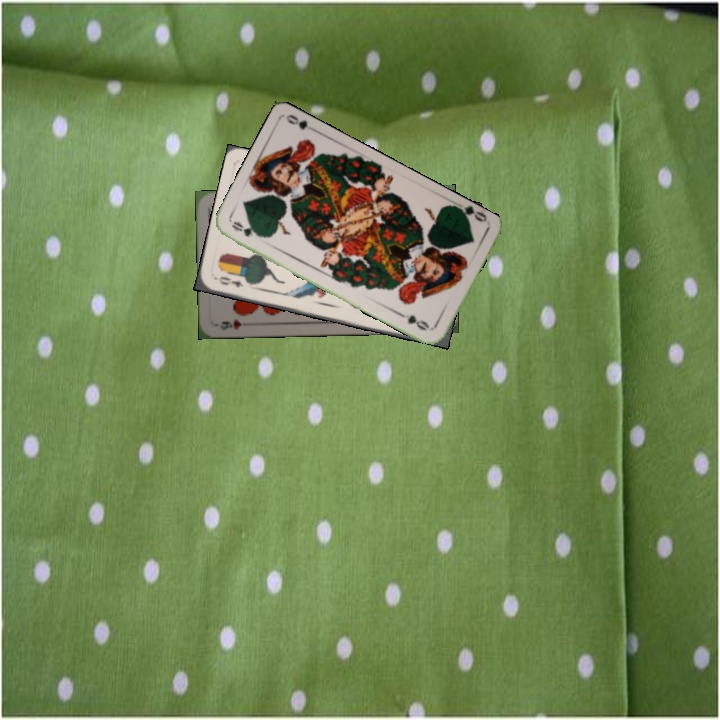EO: (212, 272, 245, 290)
GO: (451, 199, 489, 226), (228, 217, 266, 240)
H9: (216, 315, 244, 332)
